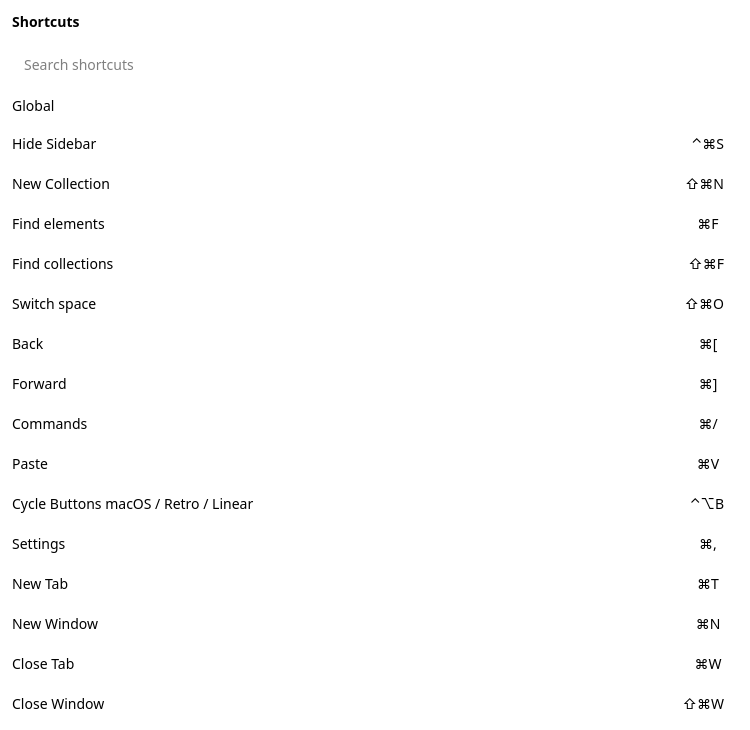
ShortcutsSection › records a valid combination in the same row and saves it immediately
This screenshot has width=750, height=730.
Click the button "⌘F".
click(708, 224)  # box top-left (684, 214), bottom-right (732, 234)
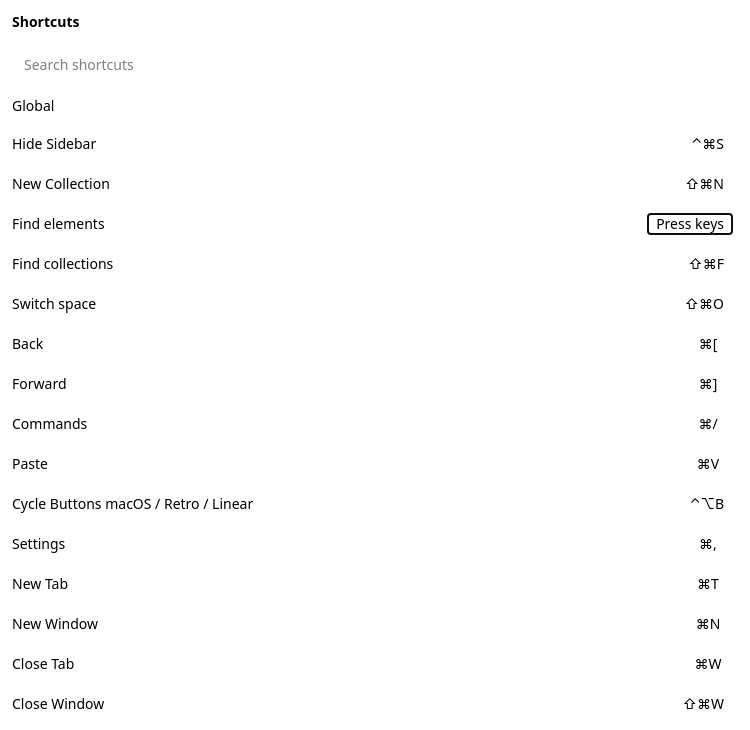
Result: the button "Press keys" is shown
Press e in the button "Press keys", box top-left (648, 214), bottom-right (732, 234)
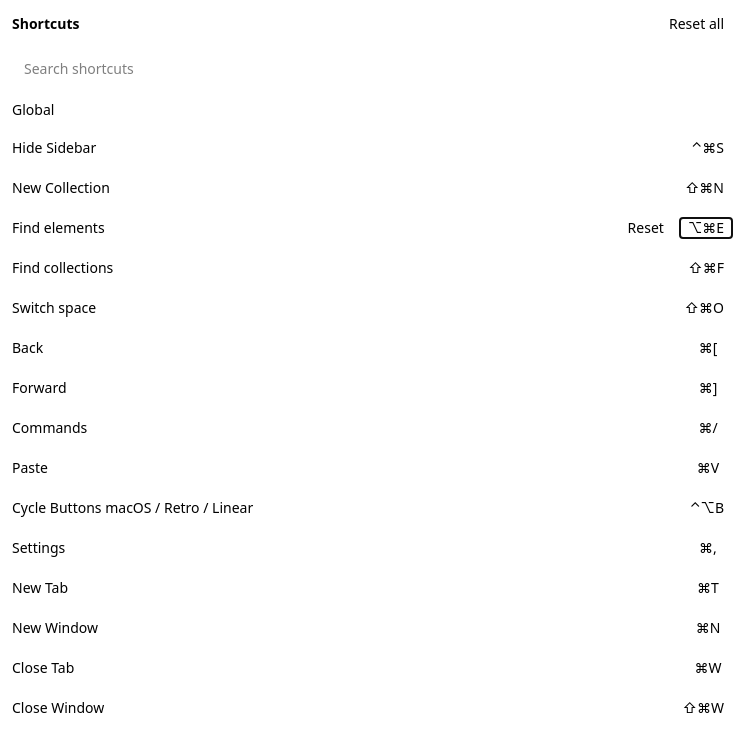
Result: the button "⌥⌘E" is shown at top-left (680, 218), bottom-right (732, 238)
